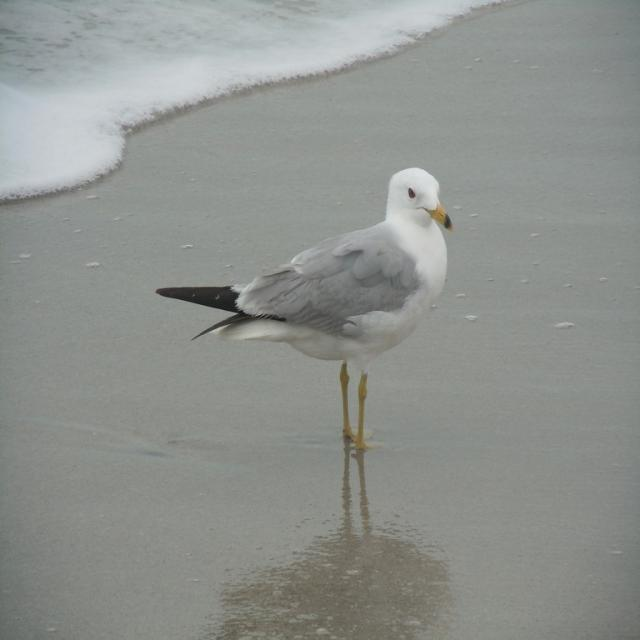bird: (156, 160, 463, 470)
